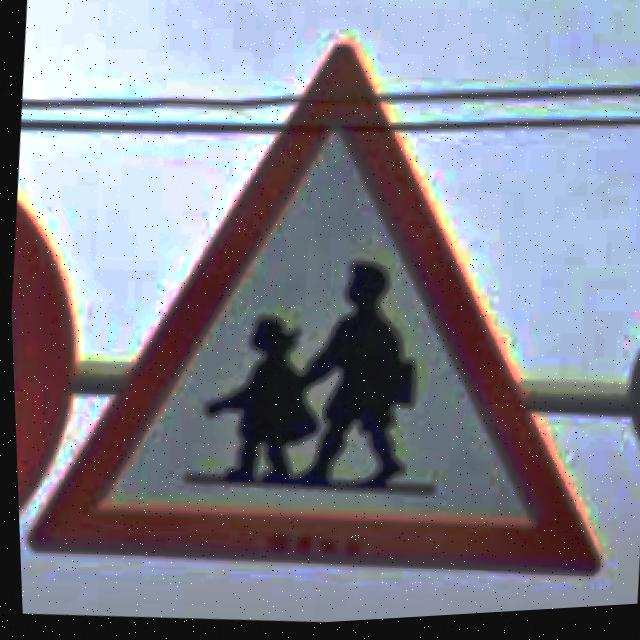childrencross: (23, 48, 592, 575)
